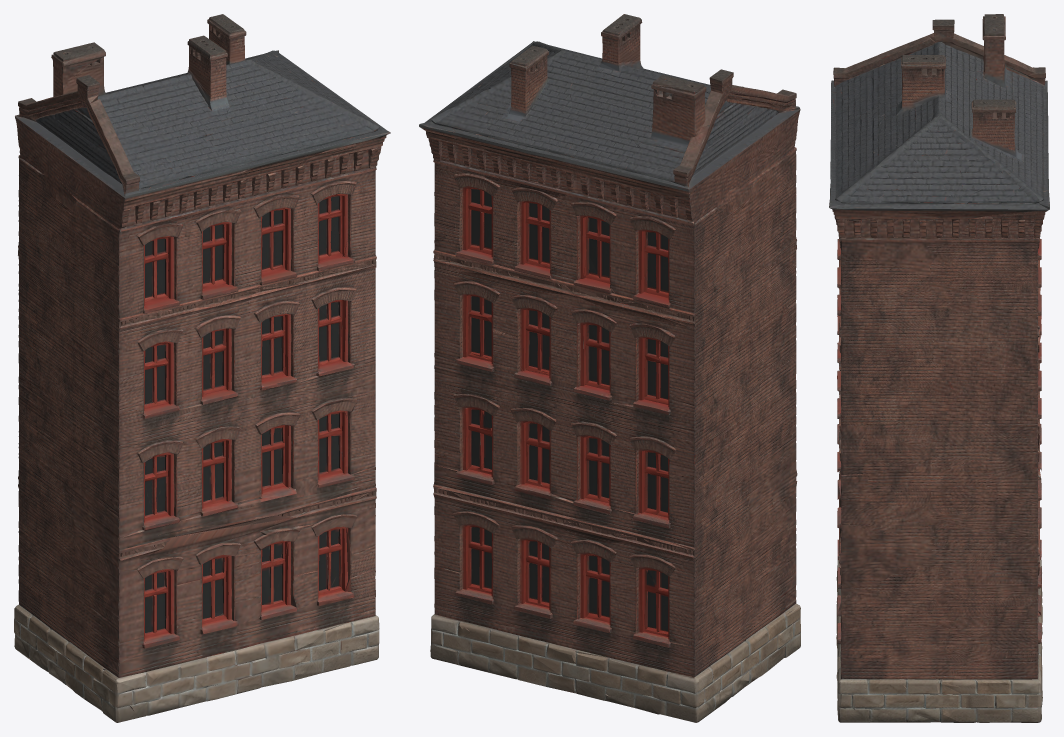
Rendered from colony_house_c3_hipped.glb.
3 renders of one model, left to right at view 1: azimuth 30°, elevation 25°; view 2: azimuth 150°, elevation 25°; view 3: azimuth 270°, elevation 25°, orthographic. The views are drawn at different scales.
Bounding box in the file's own units: 0.8794 × 1.9 × 0.6317.
1 material, 1 textured.
